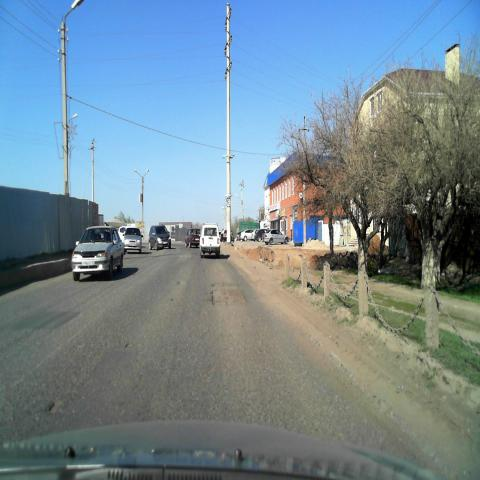3_19: (225, 197, 231, 207)
